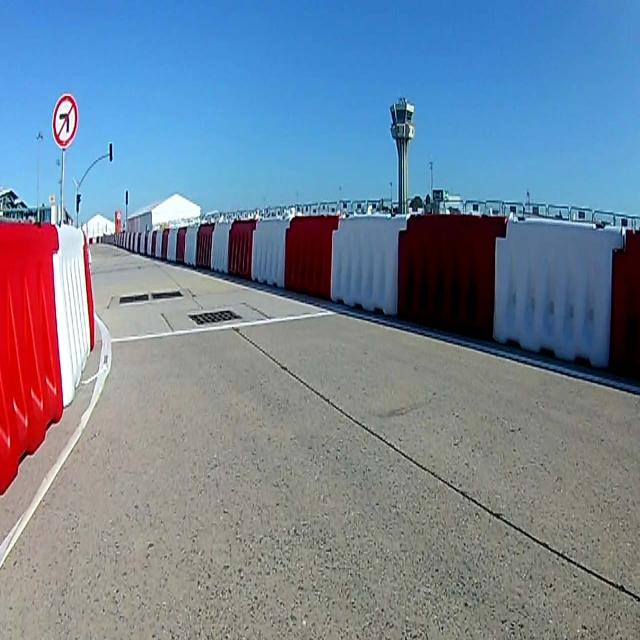soladonulmez: (53, 96, 77, 144)
